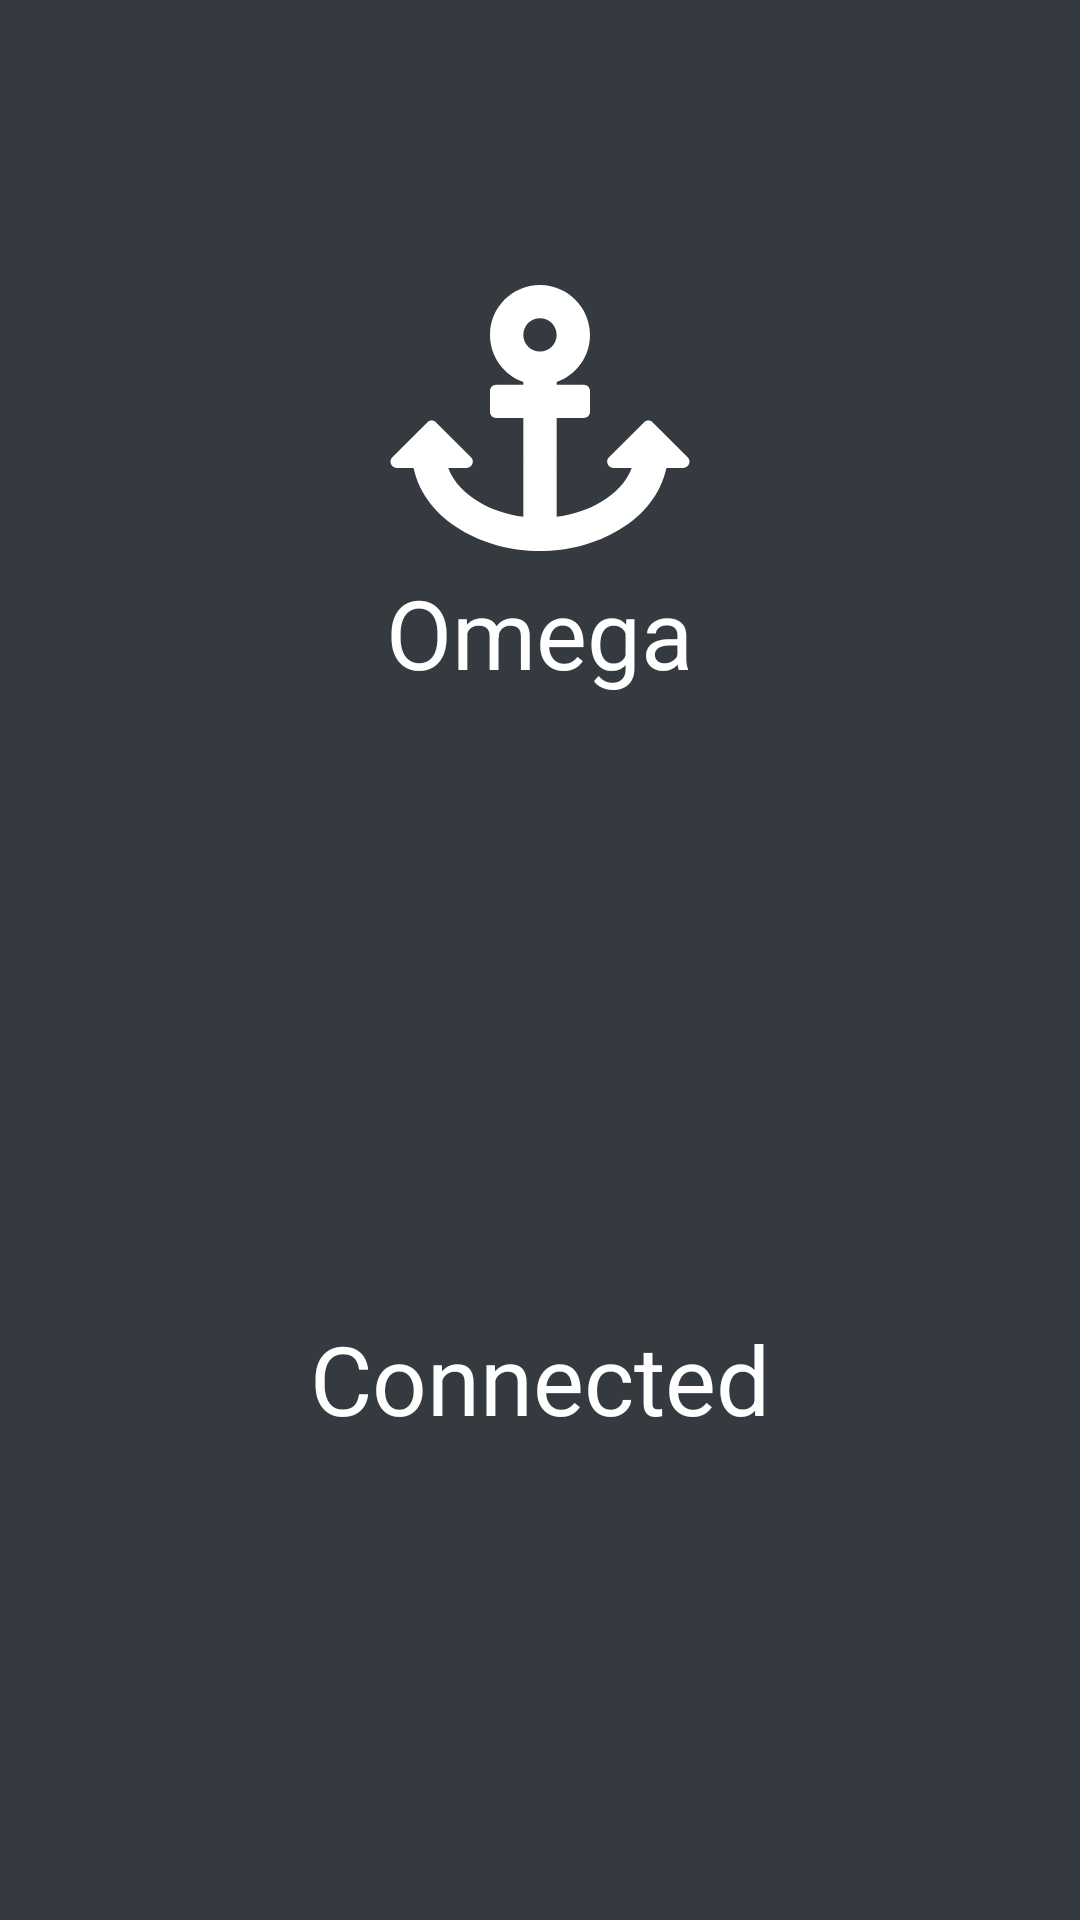

Named icons in this screenshot (1080px x 1920px) and their centers, point (x, y):
anchor: point (540, 418)
